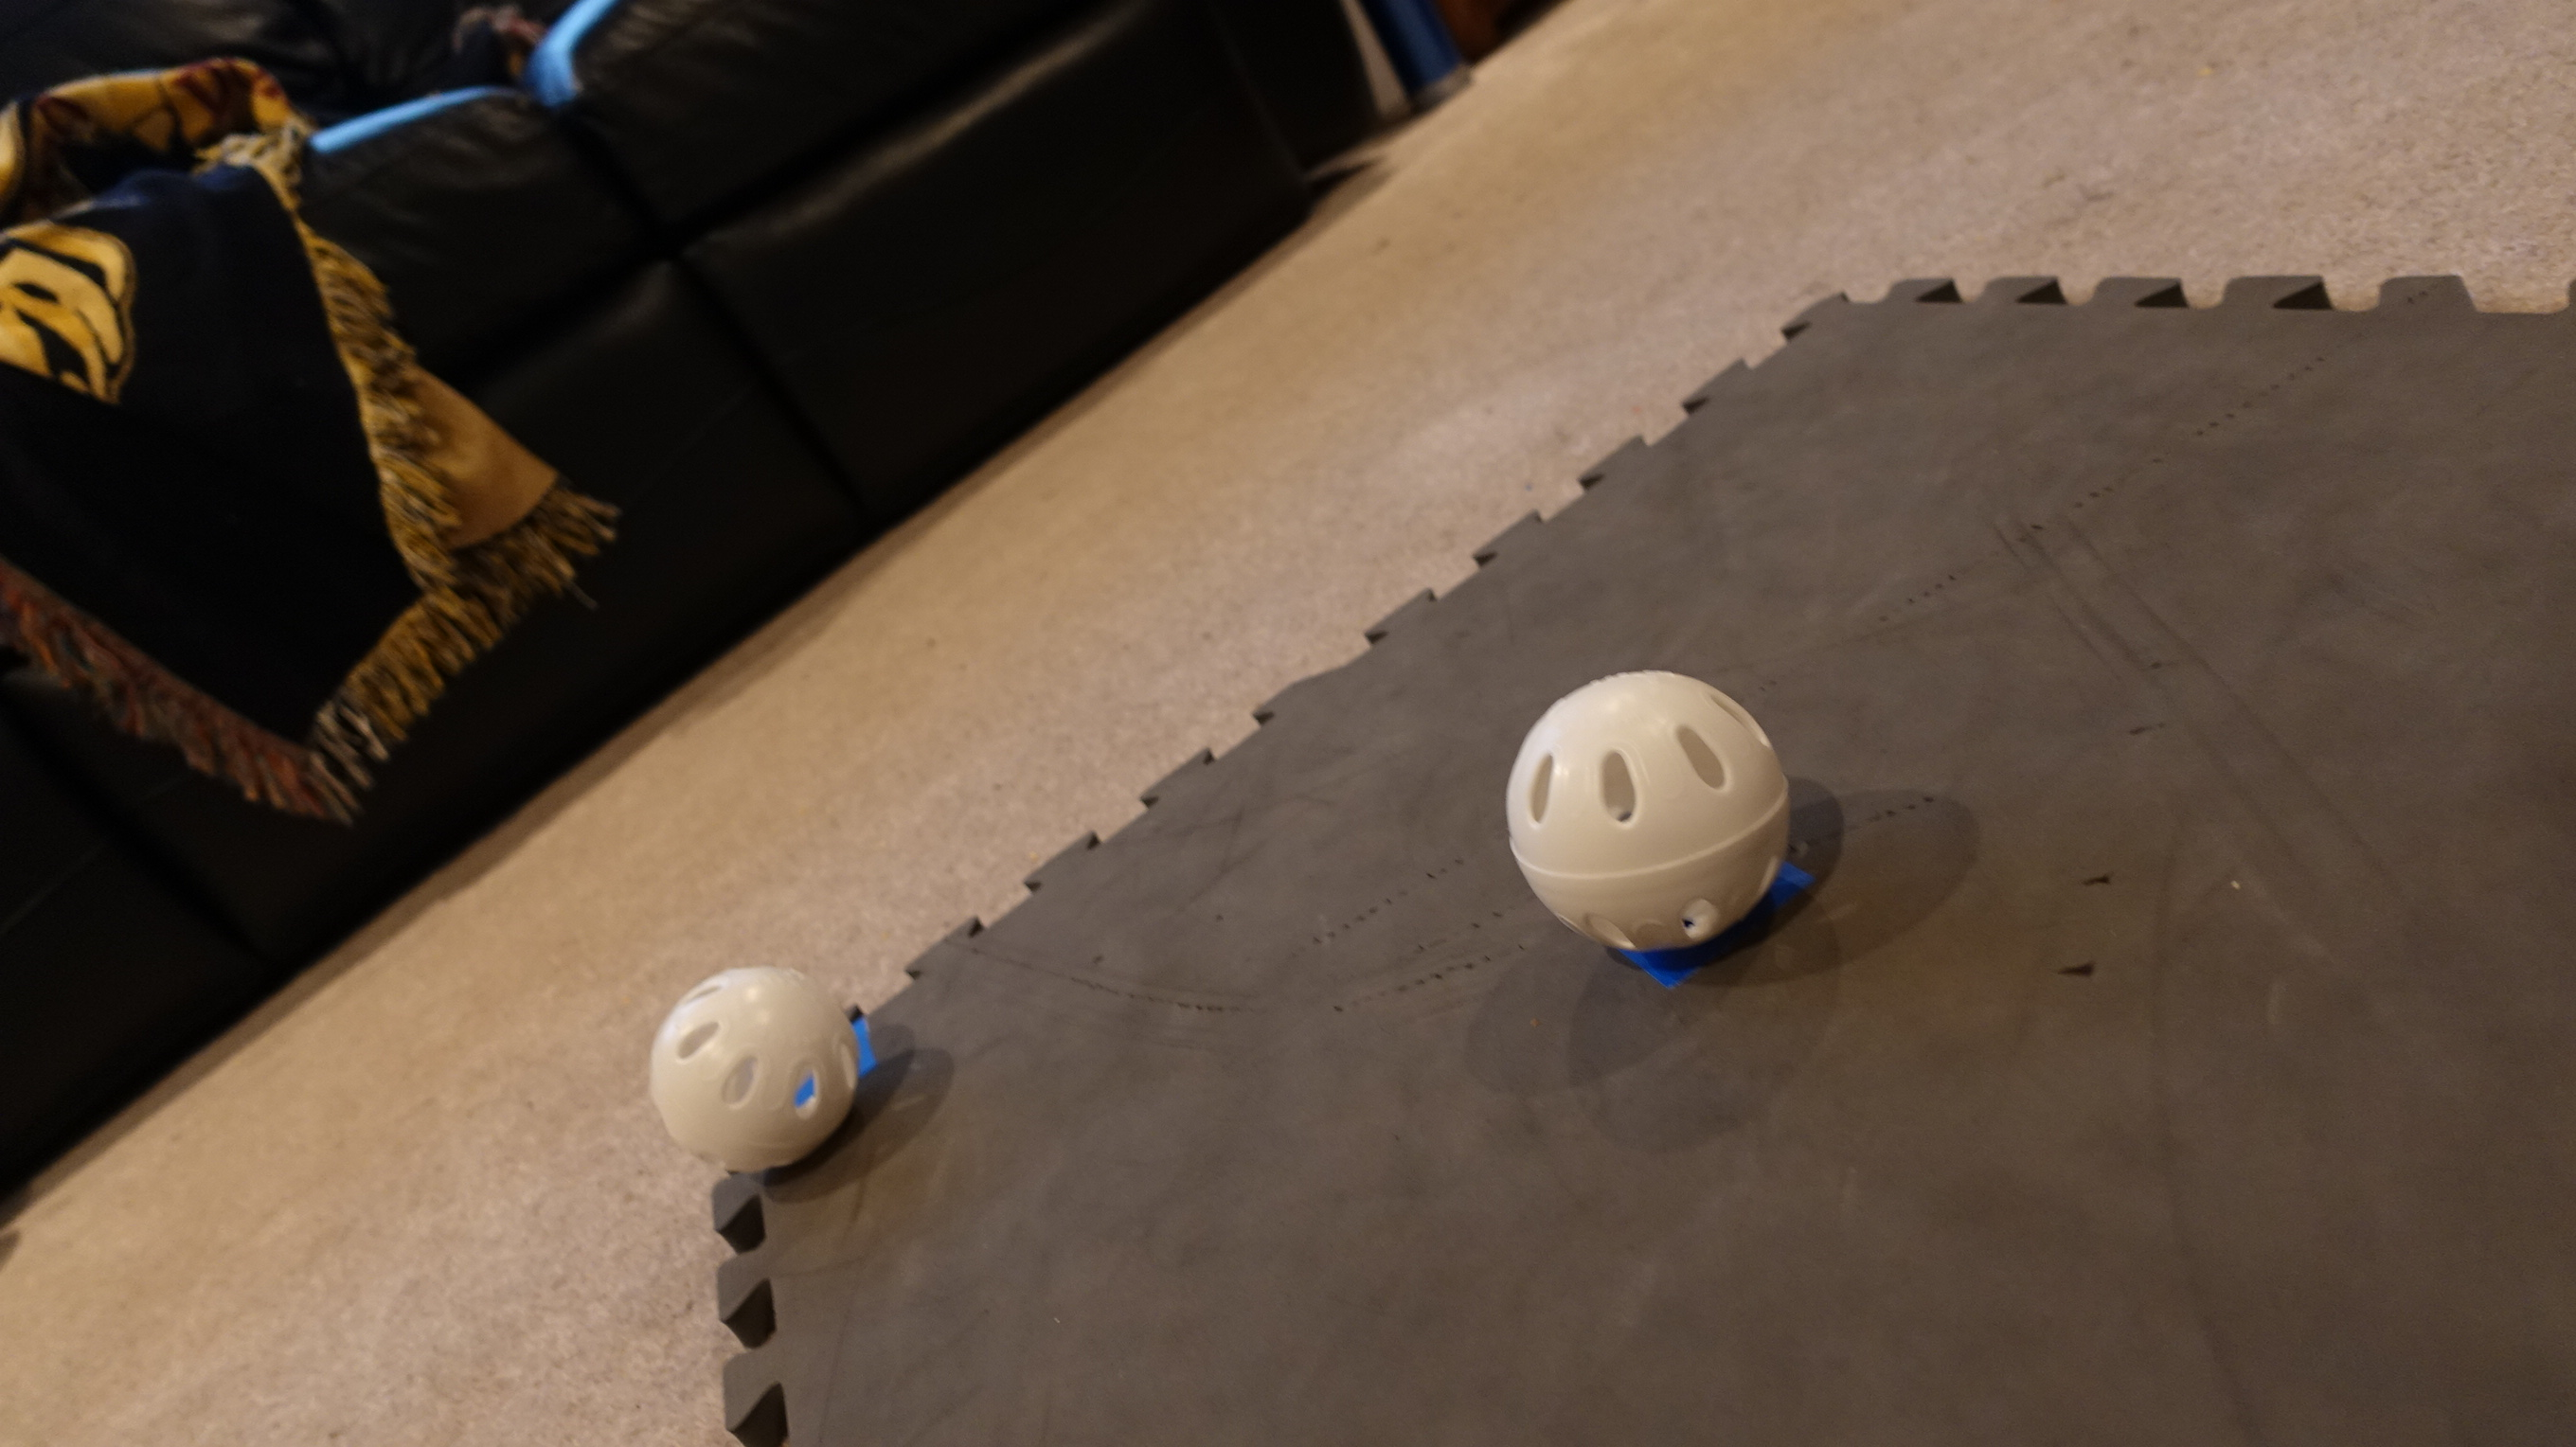silver: (1486, 667, 1806, 952), (649, 957, 856, 1173)
